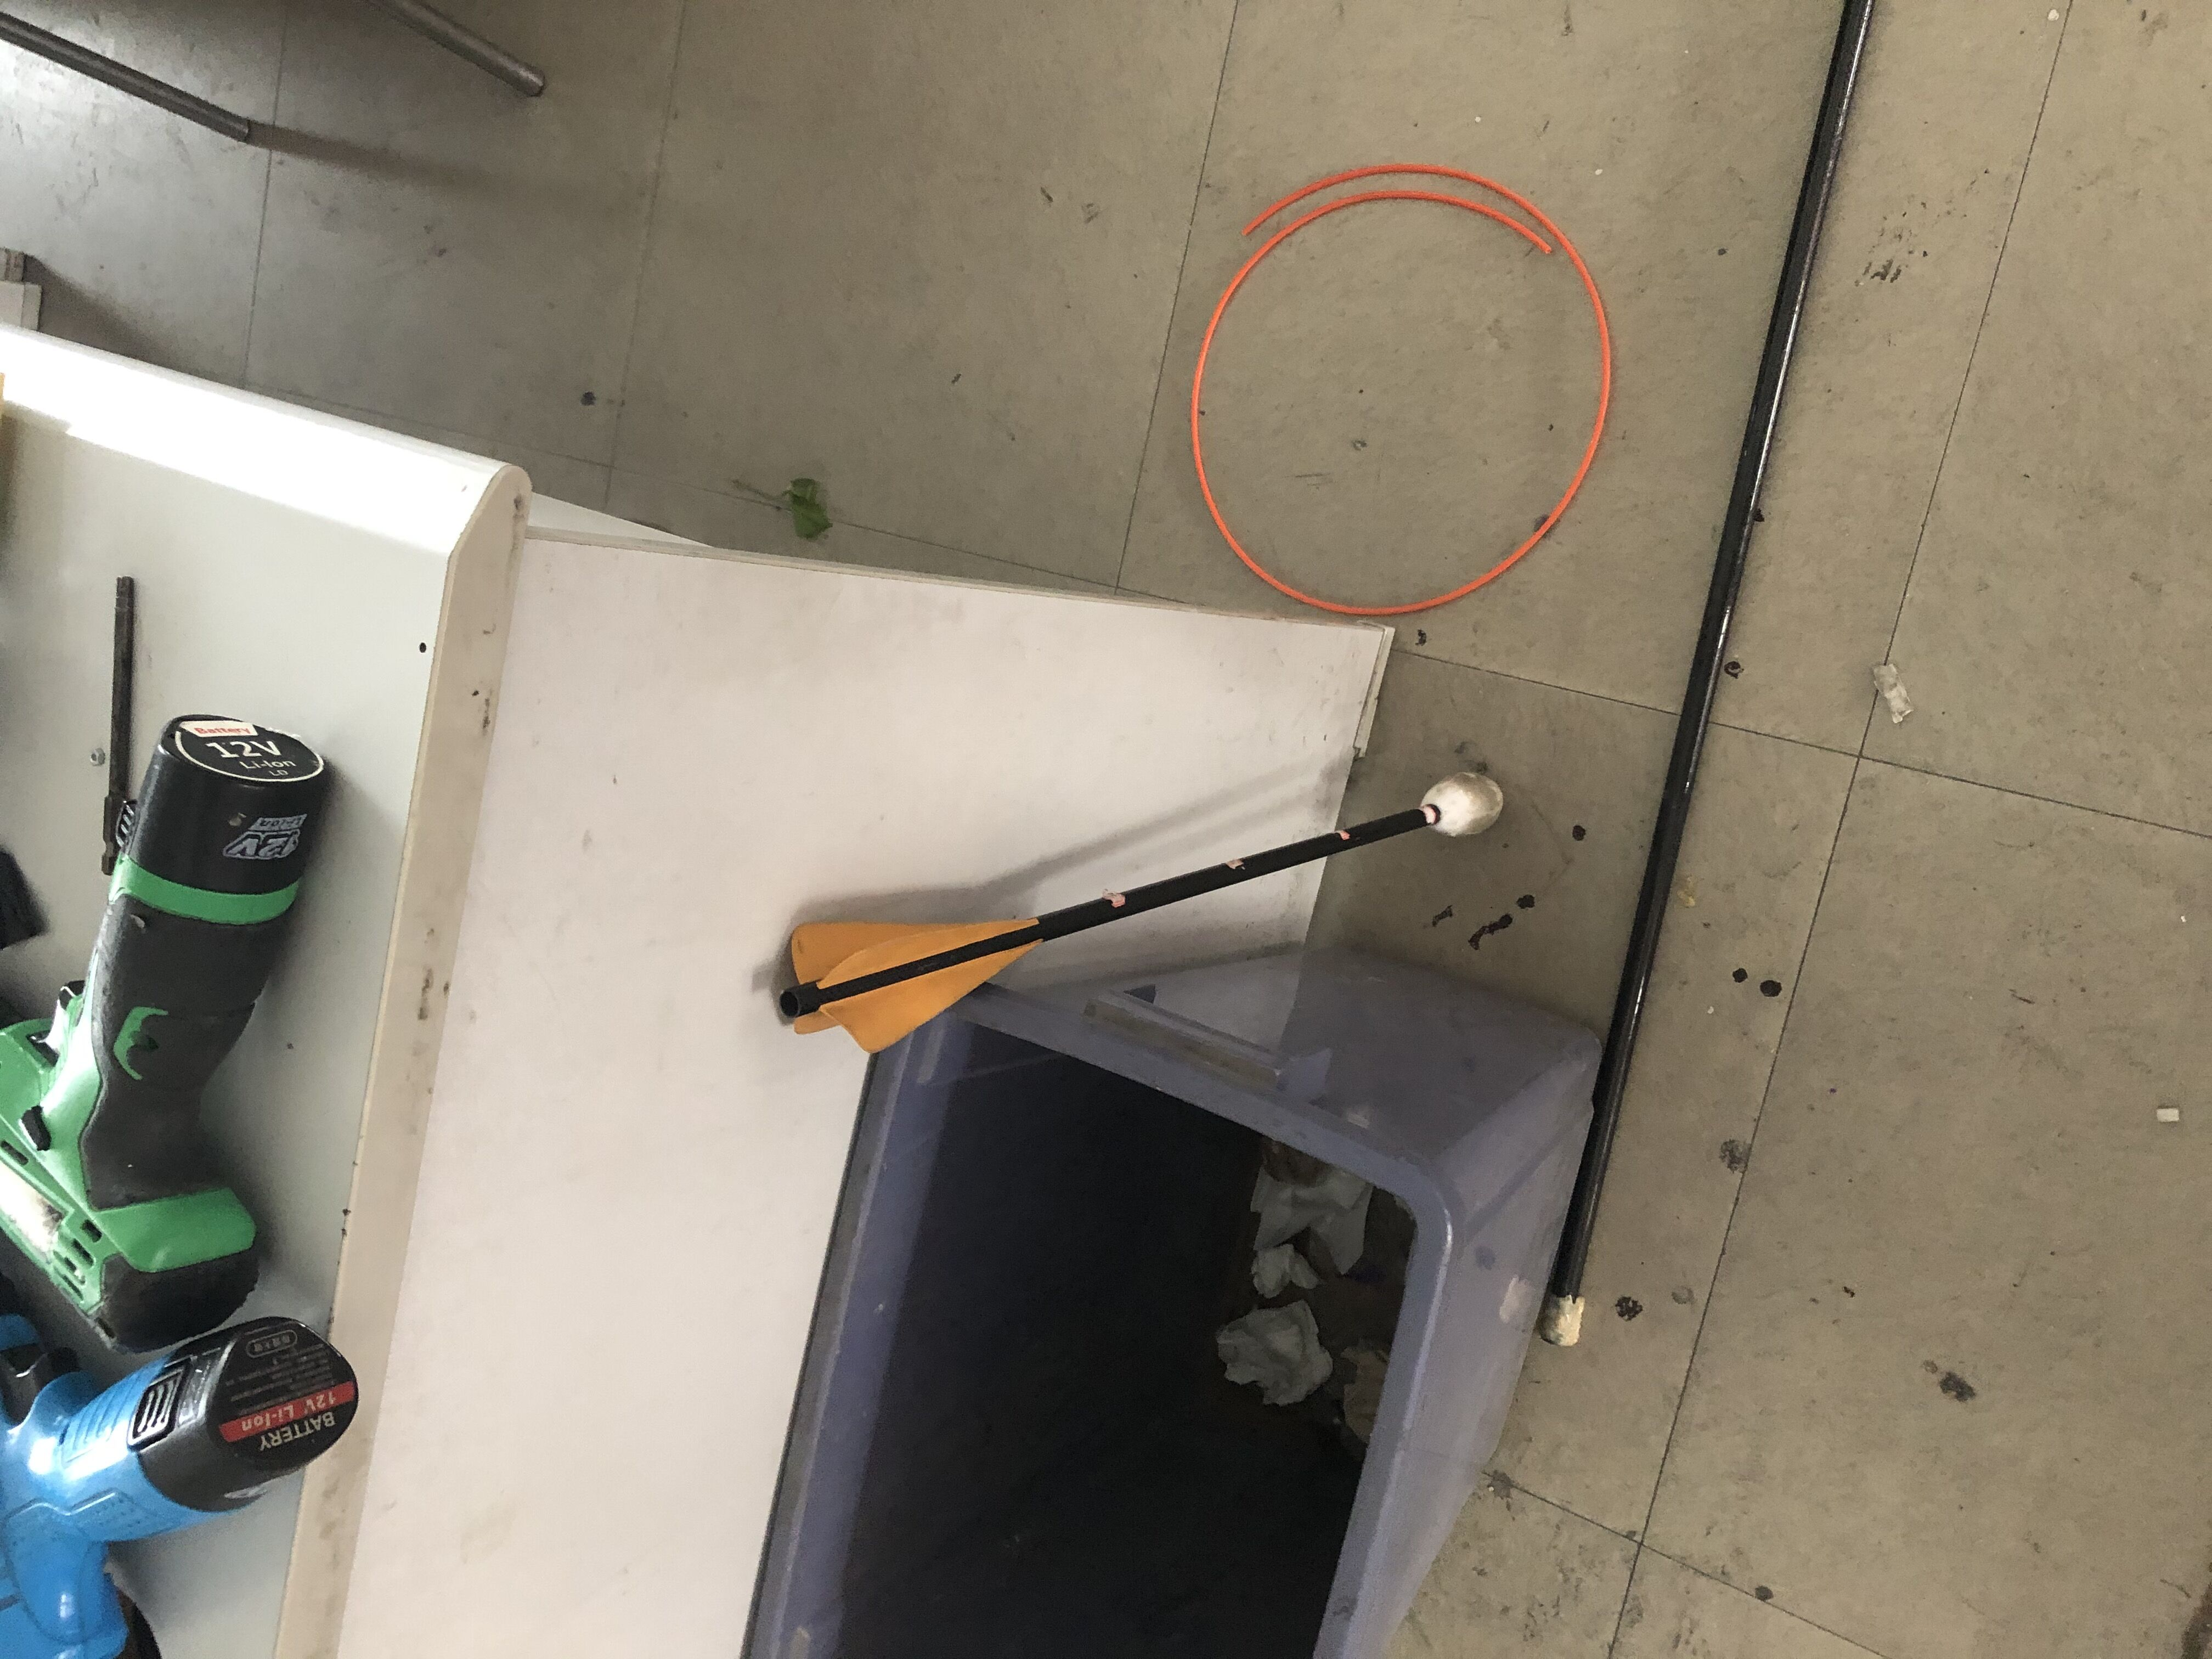arrow: (775, 767, 1507, 1054)
arrowFront: (1414, 763, 1510, 836)
